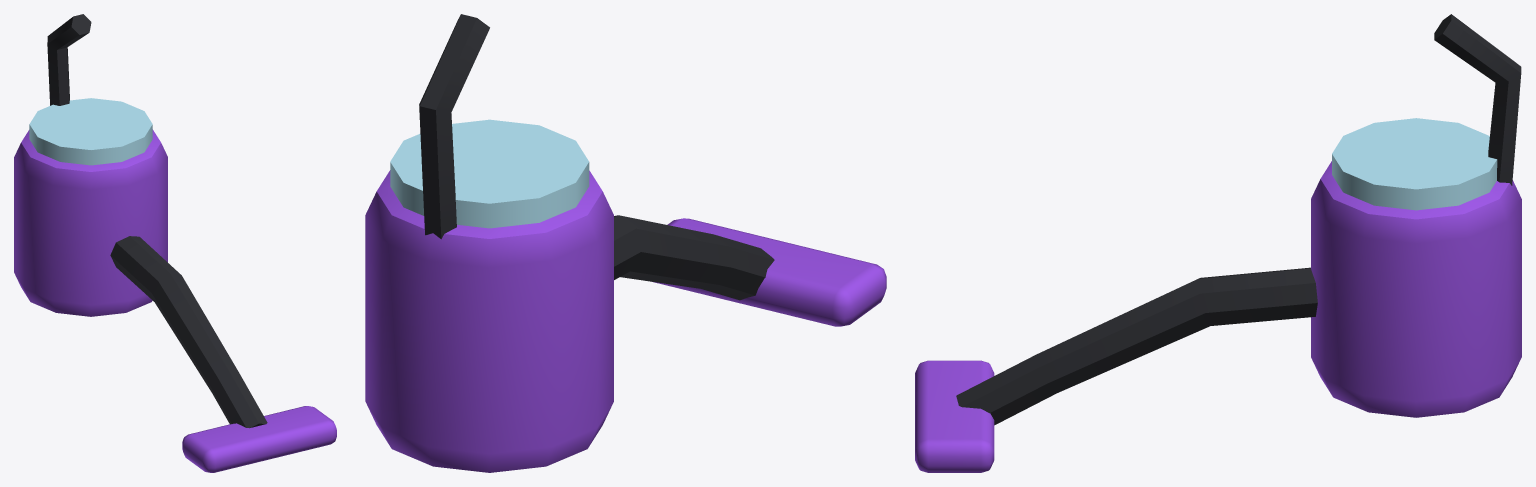
Rendered from Vacuum.fbx.
3 views of the same model, side by side, from view 1: azimuth 30°, elevation 25°; view 2: azimuth 150°, elevation 25°; view 3: azimuth 270°, elevation 25° (orthographic). The views are drawn at different scales.
Parts seen in each view (by area): view 1: Vacuum; view 2: Vacuum; view 3: Vacuum.
Boxes of the visible parts, x1,y1,x2,y2 form: Vacuum: (14,14,336,472); Vacuum: (365,14,886,472); Vacuum: (915,14,1521,472).
Bounding box in the file's own units: 0.8 × 1.74 × 2.3.
1 material, 1 textured.
